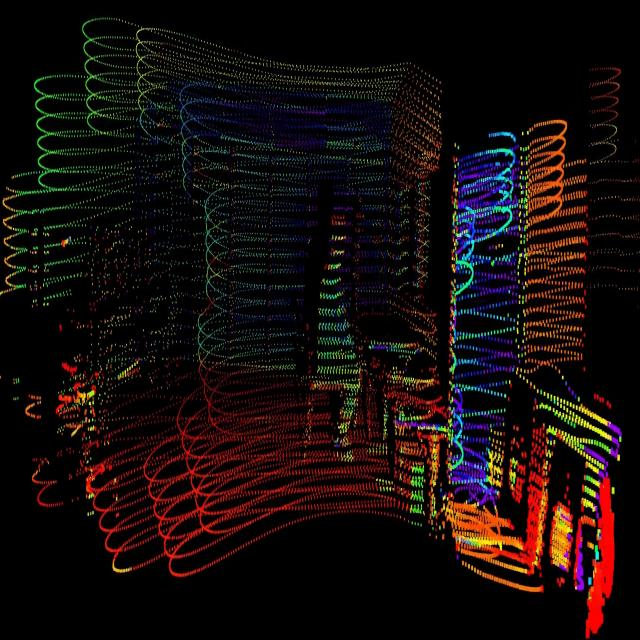human: (306, 202, 363, 474)
